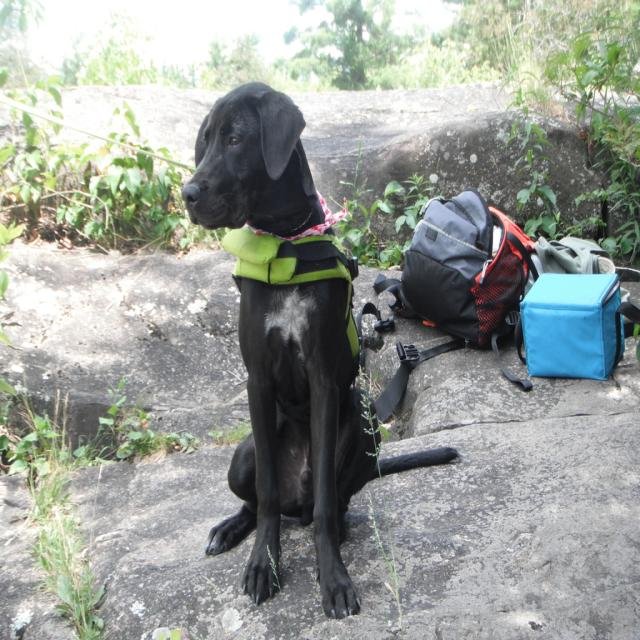backpack: (398, 183, 528, 352), (519, 260, 635, 383)
